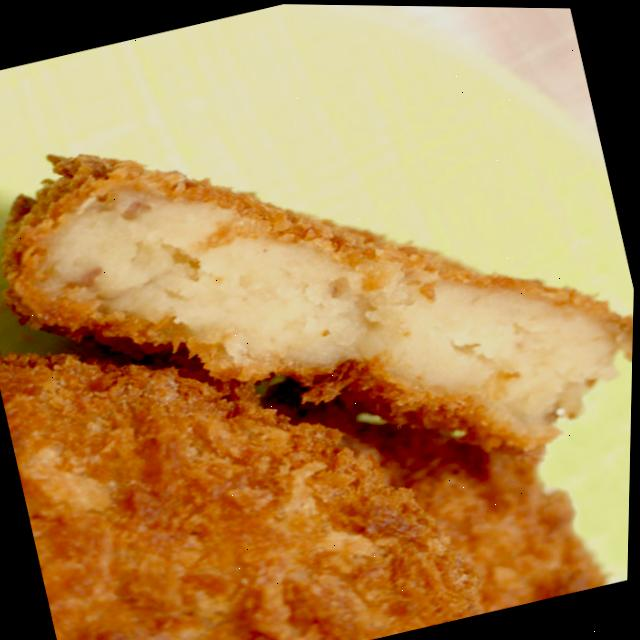炸货点心: (0, 11, 640, 640)
